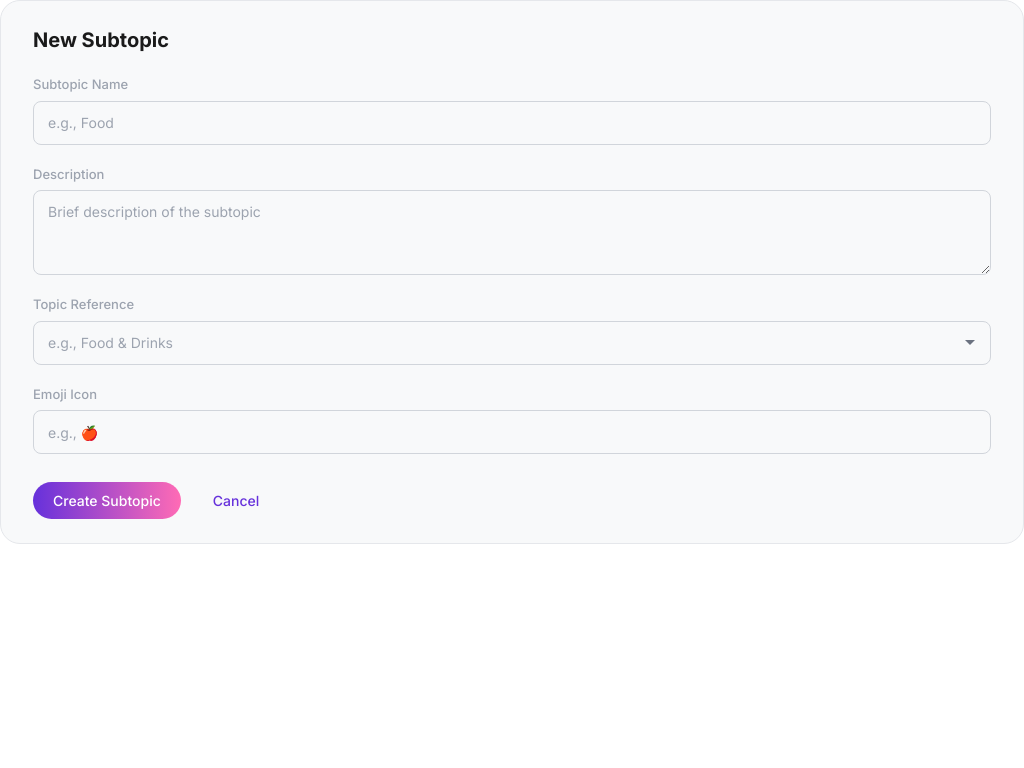
Test case: AdminSubtopicForm › typing clears the field error
Click the button "Create Subtopic" at (107, 500), box [33, 482, 181, 519]
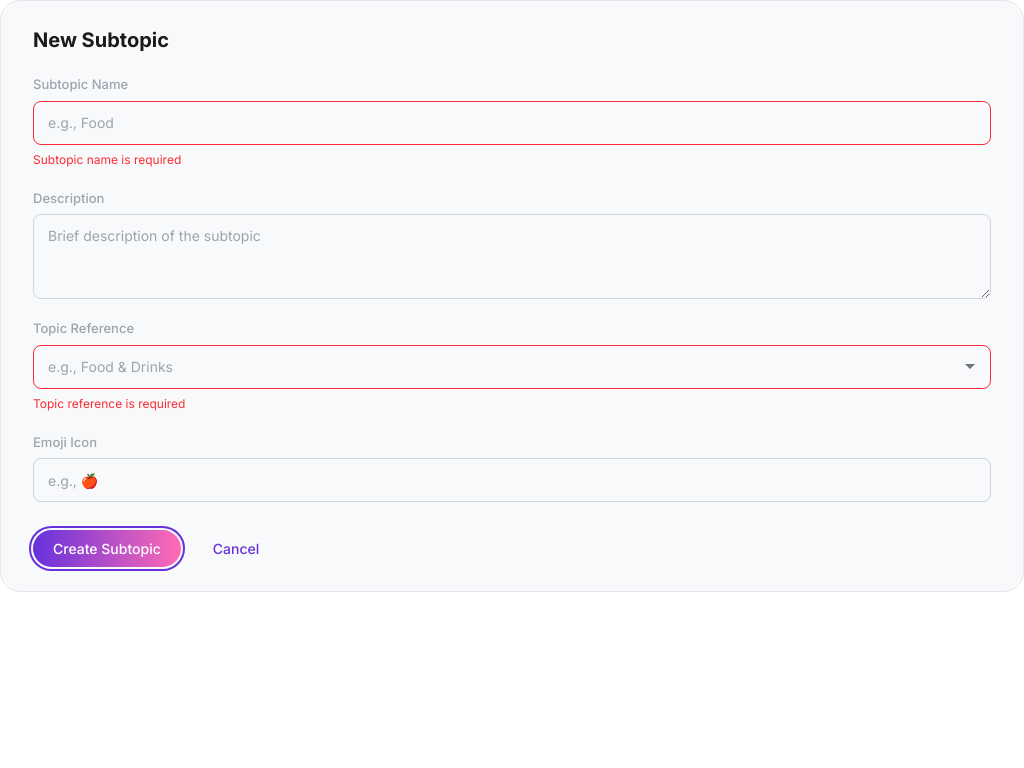
Result: the text "Subtopic name is required" is shown at [33, 152, 181, 166]
Type "A" into the field labelled "Subtopic Name" at (512, 122), box [33, 100, 991, 144]
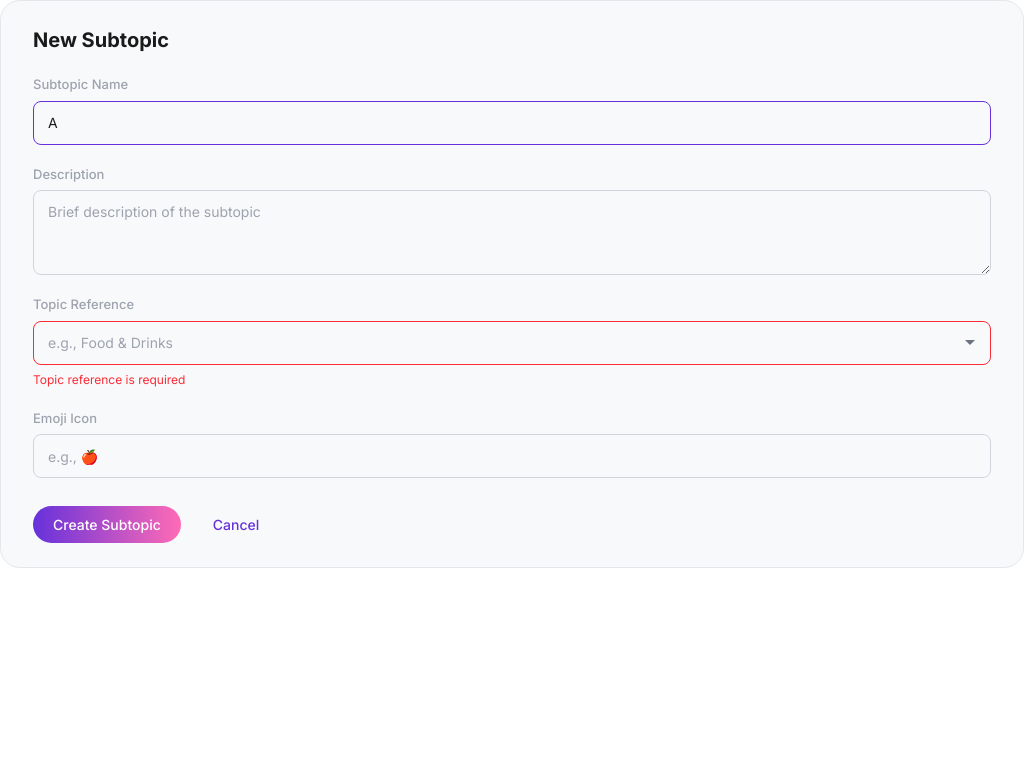
Result: the text "Subtopic name is required" is gone
